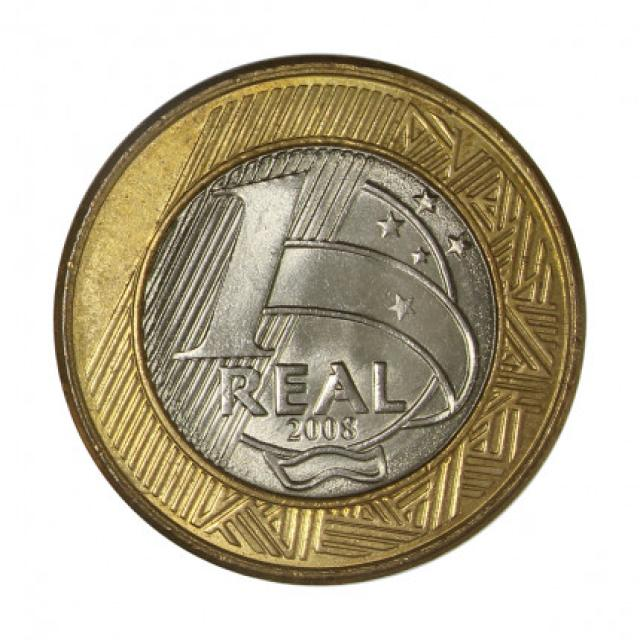1 real: (53, 51, 584, 588)
